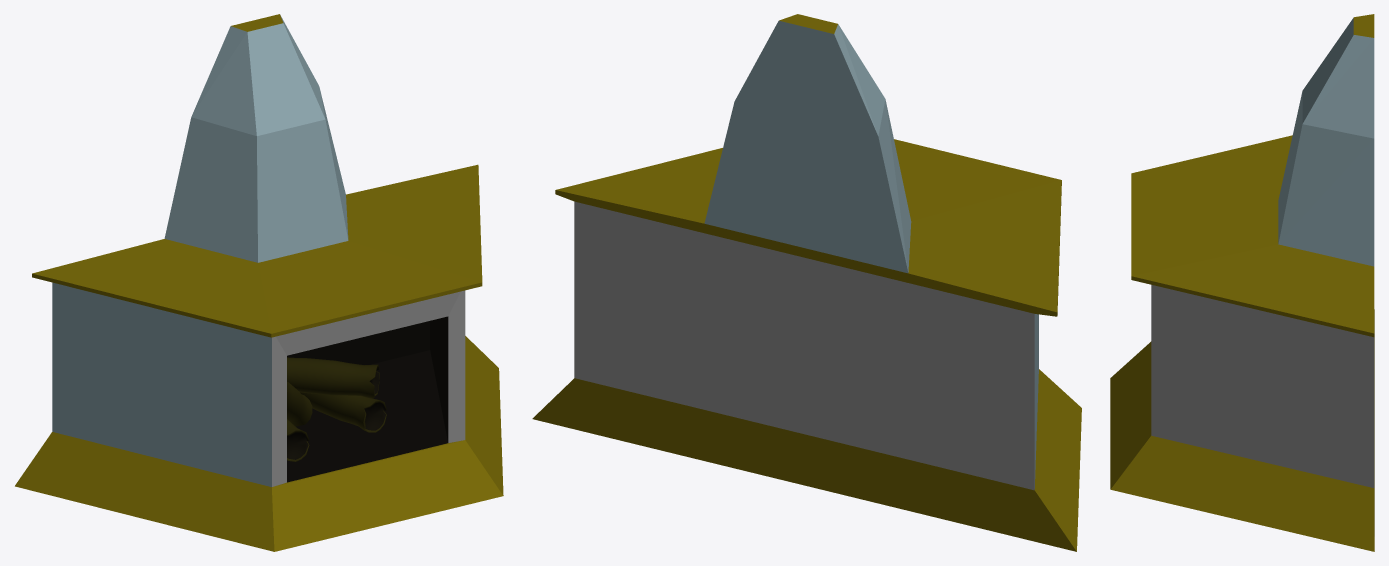
File: estufa.FBX
3 renders of one model, left to right at view 1: azimuth 30°, elevation 25°; view 2: azimuth 150°, elevation 25°; view 3: azimuth 270°, elevation 25°, orthographic. The views are drawn at different scales.
Parts seen in each view (by area): view 1: Box001, Cylinder003, Cylinder004, Cylinder002, Cylinder001; view 2: Box001; view 3: Box001.
Part boxes in pixels (x1=…): Box001: x1=15, y1=14, x2=503, y2=551; Cylinder003: x1=287, y1=357, x2=379, y2=398; Cylinder004: x1=300, y1=392, x2=386, y2=432; Cylinder002: x1=287, y1=381, x2=312, y2=426; Cylinder001: x1=287, y1=419, x2=309, y2=461; Box001: x1=532, y1=14, x2=1081, y2=551; Box001: x1=1110, y1=14, x2=1374, y2=551.
Size of the model in its own units: 1503 by 1208 by 710.
